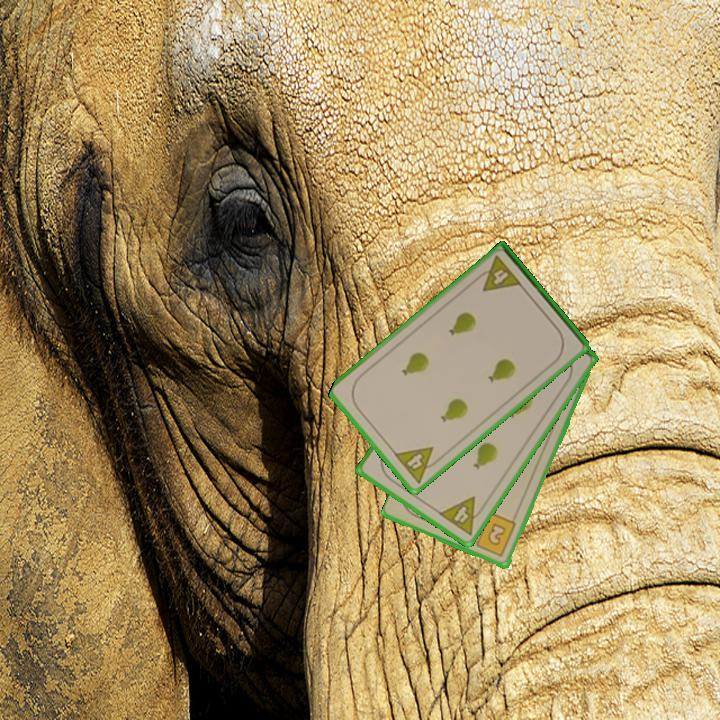2b: (467, 510, 519, 560)
4p: (435, 493, 489, 538), (390, 443, 445, 486), (472, 252, 525, 295)
